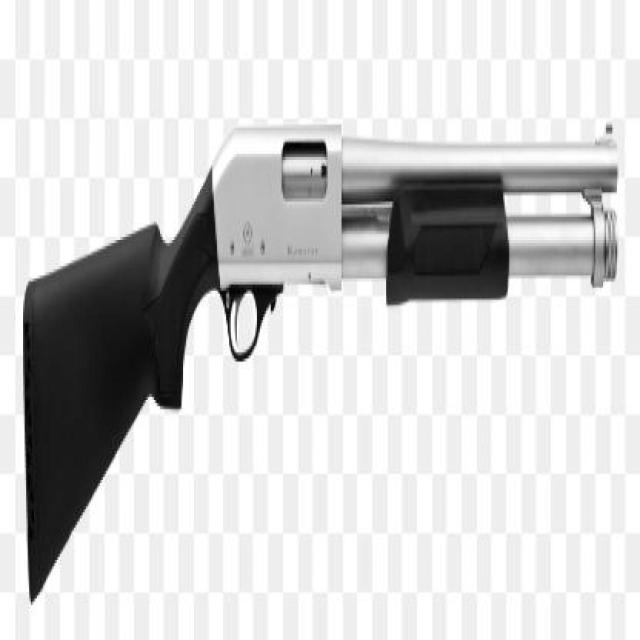weapon: (21, 119, 622, 609)
